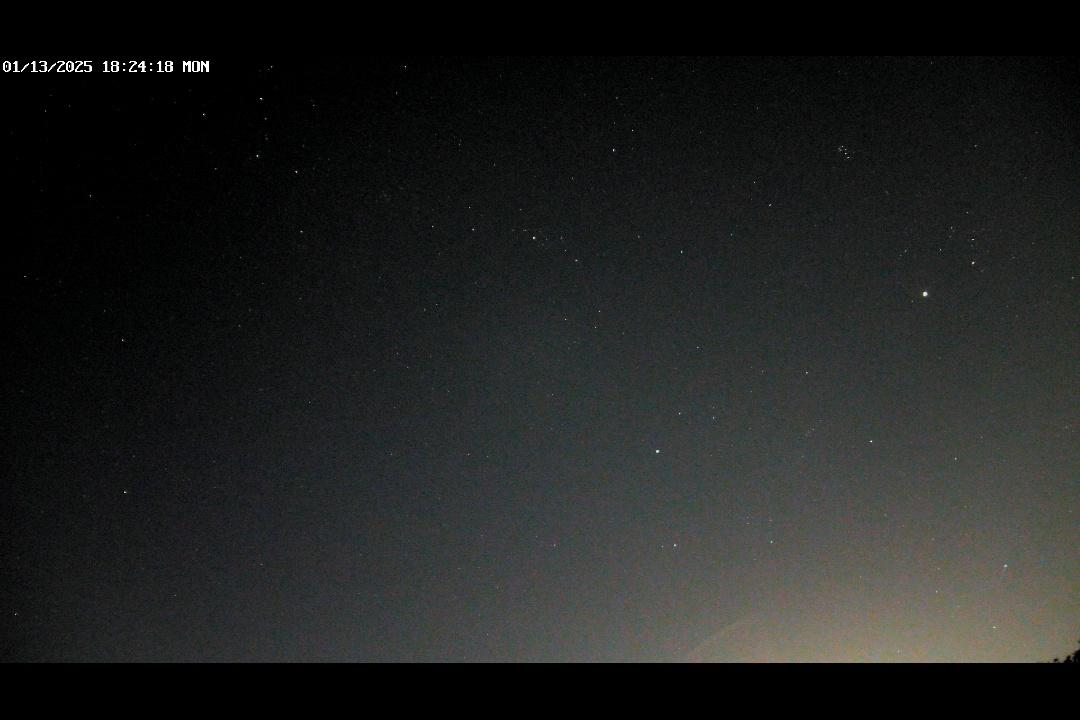Plane: (994, 554, 1020, 590)
